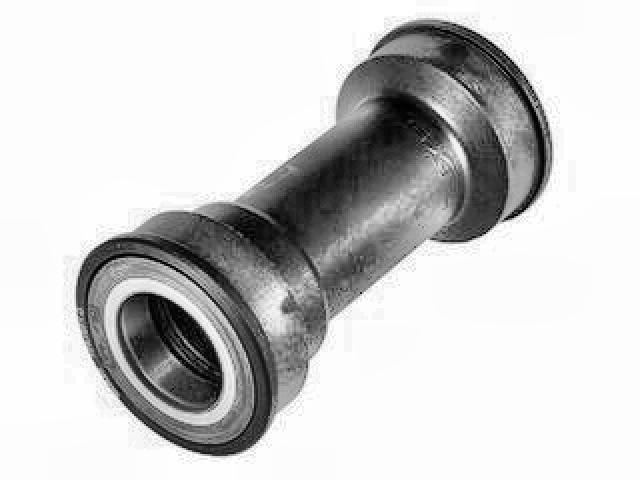bottom_bracket: (68, 18, 556, 454)
